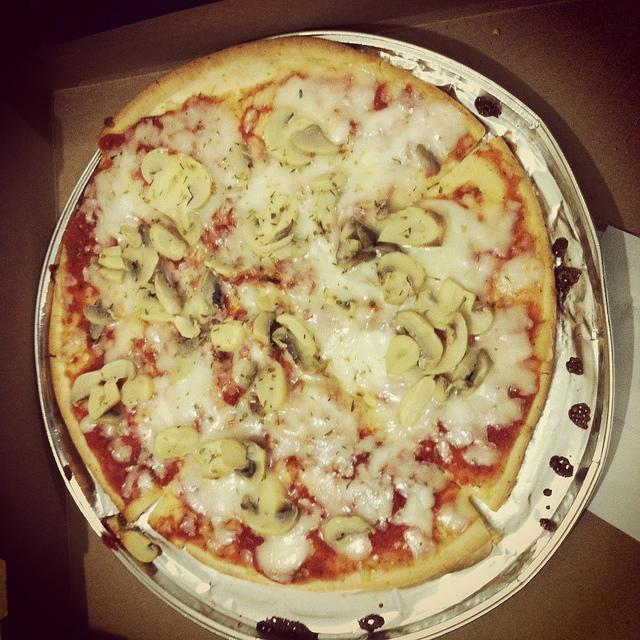mushroom: (140, 148, 212, 220), (414, 277, 494, 335), (71, 359, 135, 422), (385, 309, 444, 376), (439, 152, 511, 204), (270, 314, 328, 376), (336, 216, 404, 268), (242, 194, 299, 254), (240, 478, 298, 534), (422, 312, 468, 376), (377, 206, 446, 248), (264, 108, 313, 166), (378, 252, 426, 306), (106, 515, 160, 563), (432, 351, 478, 402), (324, 514, 376, 558), (195, 439, 248, 479), (399, 373, 436, 428), (459, 348, 494, 401), (134, 283, 175, 325), (255, 361, 288, 413), (290, 124, 340, 155), (155, 426, 200, 459), (121, 247, 159, 285), (84, 298, 118, 339), (234, 440, 266, 482), (150, 224, 186, 261), (209, 316, 247, 351), (154, 272, 184, 314), (120, 374, 154, 408), (180, 294, 211, 324), (317, 190, 338, 233), (252, 311, 278, 345), (91, 263, 127, 284), (232, 359, 258, 388), (204, 260, 243, 278), (311, 173, 348, 190)
